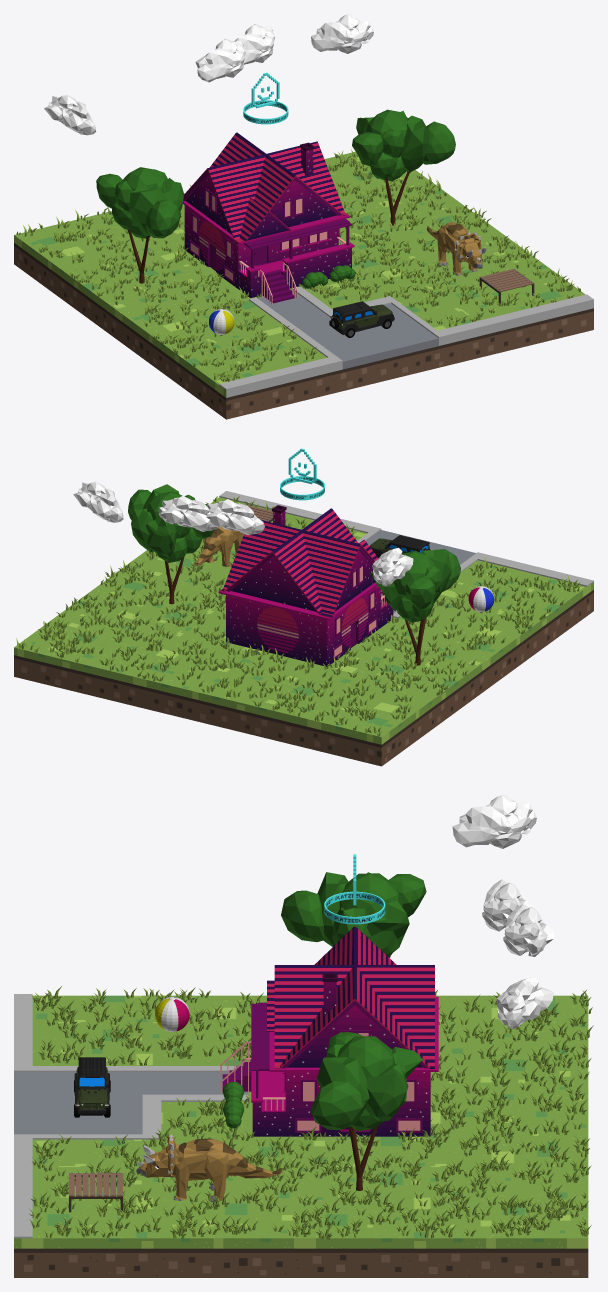
3 renders of one model, top to bottom at view 1: azimuth 30°, elevation 25°; view 2: azimuth 150°, elevation 25°; view 3: azimuth 270°, elevation 25°, orthographic. The views are drawn at different scales.
Visible parts, largest first — view 1: Cube.006, Cube.156, Circle.012_Grass_0.192, Cube.007, tree, tree.001, ANIMAL_Triceratops, VEHICLES_JEEP, TYPE_PREMIUM, Cube.009, OBJRANDOM_BEACHBALL; view 2: Cube.006, Cube.156, Circle.012_Grass_0.192, Cube.007, tree.001, tree, ANIMAL_Triceratops, TYPE_PREMIUM, VEHICLES_JEEP, OBJRANDOM_BEACHBALL; view 3: Cube.006, Circle.012_Grass_0.192, Cube.156, tree, Cube.007, tree.001, ANIMAL_Triceratops, VEHICLES_JEEP, Cube.009, TYPE_PREMIUM, OBJRANDOM_BEACHBALL.
Boxes of the visible parts, <box> form: Cube.006: <box>14,151,593,419</box>; Cube.156: <box>183,132,354,304</box>; Circle.012_Grass_0.192: <box>16,149,580,381</box>; Cube.007: <box>44,14,373,135</box>; tree: <box>352,109,455,225</box>; tree.001: <box>96,167,184,283</box>; ANIMAL_Triceratops: <box>427,222,486,275</box>; VEHICLES_JEEP: <box>329,301,394,337</box>; TYPE_PREMIUM: <box>243,72,288,124</box>; Cube.009: <box>479,268,534,303</box>; OBJRANDOM_BEACHBALL: <box>209,309,234,334</box>; Cube.006: <box>14,491,593,766</box>; Cube.156: <box>218,505,393,666</box>; Circle.012_Grass_0.192: <box>16,496,580,736</box>; Cube.007: <box>73,481,413,586</box>; tree.001: <box>370,549,460,665</box>; tree: <box>128,484,214,604</box>; ANIMAL_Triceratops: <box>193,526,243,566</box>; TYPE_PREMIUM: <box>280,448,324,500</box>; VEHICLES_JEEP: <box>370,535,430,558</box>; OBJRANDOM_BEACHBALL: <box>468,586,494,611</box>; Cube.006: <box>14,994,588,1277</box>; Circle.012_Grass_0.192: <box>29,986,593,1239</box>; Cube.156: <box>220,926,438,1136</box>; tree: <box>311,1032,422,1190</box>; Cube.007: <box>452,795,553,1029</box>; tree.001: <box>281,872,426,957</box>; ANIMAL_Triceratops: <box>136,1134,282,1202</box>; VEHICLES_JEEP: <box>74,1057,110,1117</box>; Cube.009: <box>69,1172,122,1212</box>; TYPE_PREMIUM: <box>324,854,385,924</box>; OBJRANDOM_BEACHBALL: <box>155,997,189,1031</box>.
Bounding box in the file's own units: 4071 × 2278 × 4040.
Materials: 40 (6 with a texture image).
